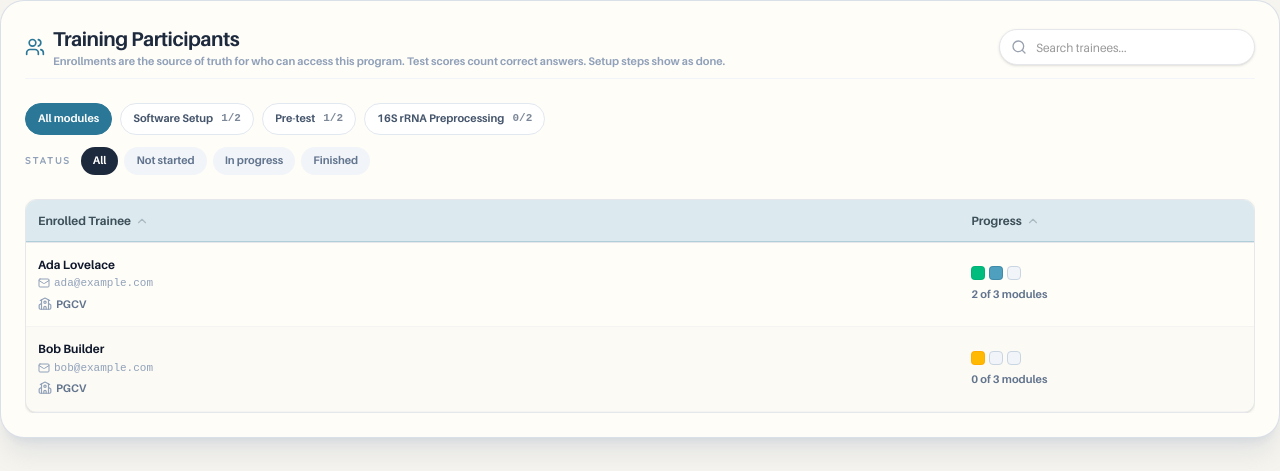
Scenario: ProgramParticipants module progress › adds a sortable column for a focused module and filters by its status
The width and height of the screenshot is (1280, 471).
Click the button "Pre-test 1/2": (309, 118) [262,102,356,134]
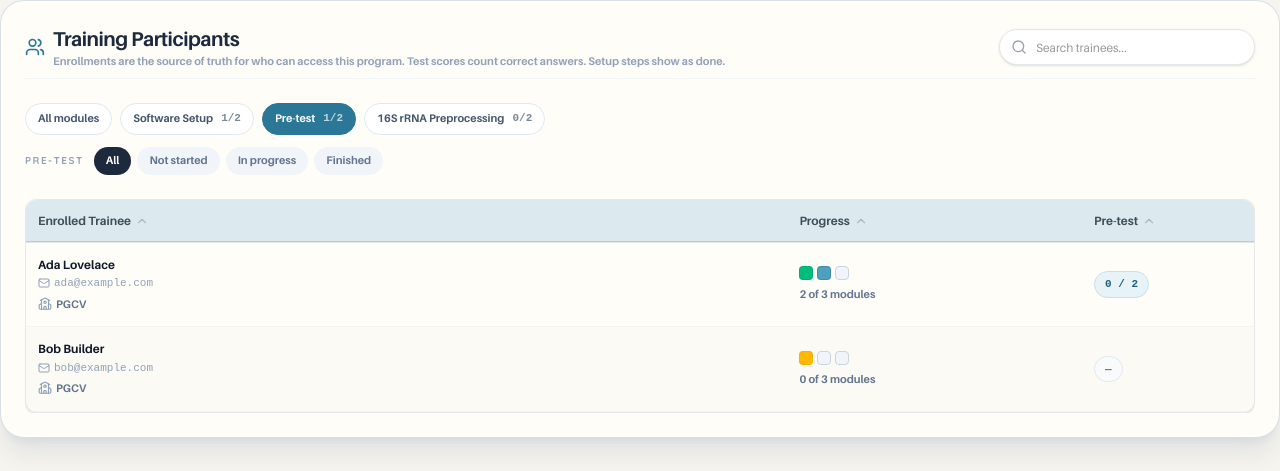
Check: the column heading "Pre-test" is shown, box [1082,200,1254,242]
Click the button "Not started": (179, 160) [137,146,220,174]
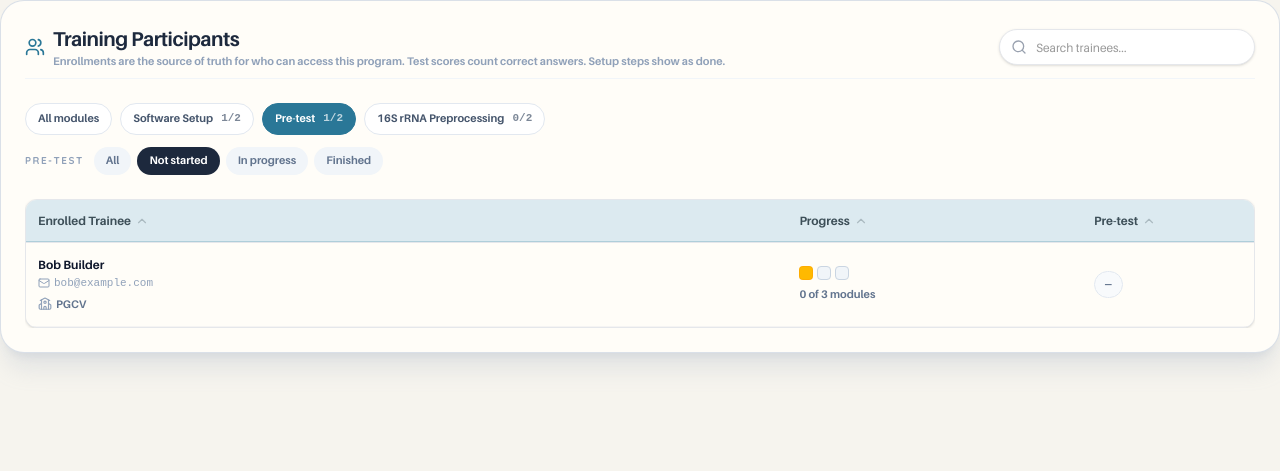
Check: the button "Bob Builder" is shown, box [38,256,104,273]
Check: the button "Ada Lovelace" is gone
